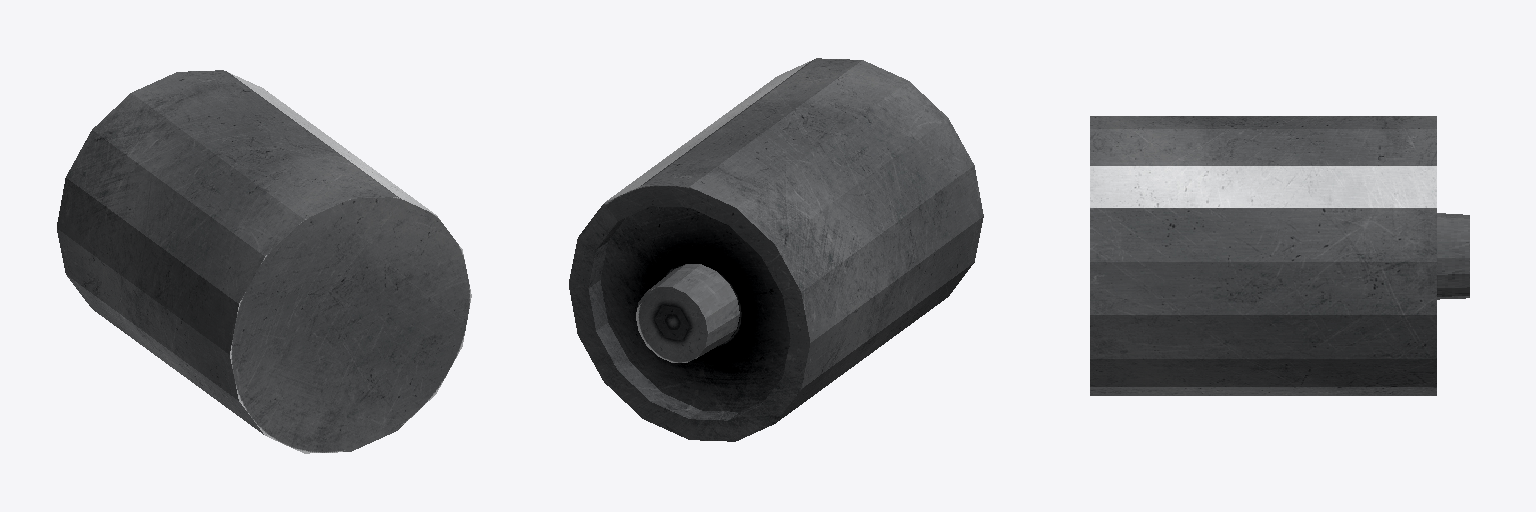
The picture shows the model from 3 angles: view 1: azimuth 30°, elevation 25°; view 2: azimuth 150°, elevation 25°; view 3: azimuth 270°, elevation 25°; orthographic projection.
Visible parts, largest first — view 1: rw_Cylinder.009; view 2: rw_Cylinder.009; view 3: rw_Cylinder.009.
Part boxes in pixels (left/top/right/bottom): rw_Cylinder.009: left=57, top=70, right=471, bottom=453; rw_Cylinder.009: left=569, top=58, right=983, bottom=441; rw_Cylinder.009: left=1090, top=116, right=1469, bottom=395.
Bounding box in the file's own units: 1.2 × 1.2 × 1.63.
Materials: 1 (1 with a texture image).